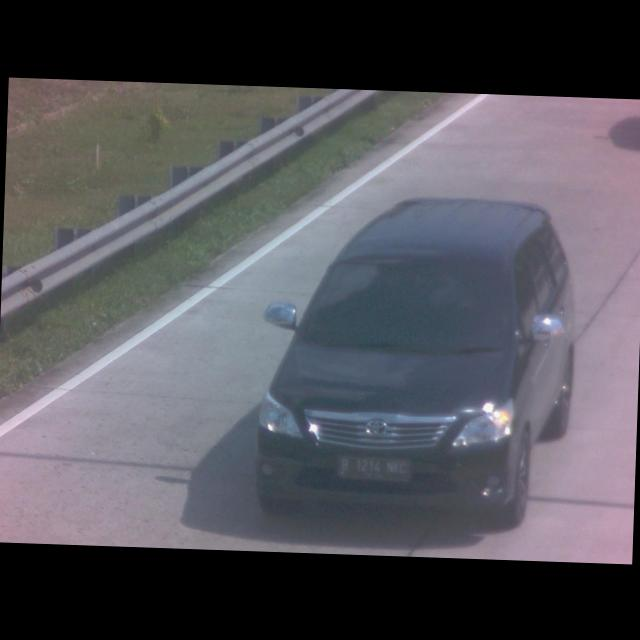plate: (334, 449, 414, 486)
